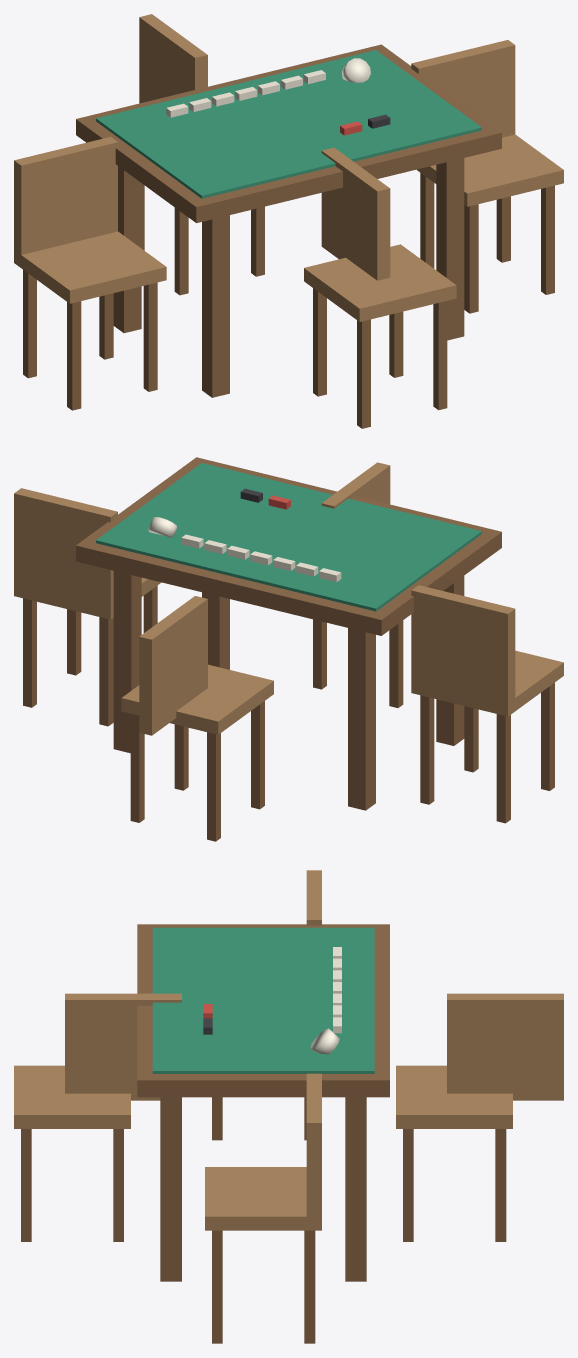
File: okey_masasi.glb
The picture shows the model from 3 angles, top to bottom: view 1: azimuth 30°, elevation 25°; view 2: azimuth 150°, elevation 25°; view 3: azimuth 270°, elevation 25°; orthographic projection. The views are drawn at different scales.
Parts seen in each view (by area): view 1: Felt, Top, Back0, Seat0, Seat2, Back2, Back1, Leg, Seat1, Back3, Leg.002, Leg.001 (+15 smaller); view 2: Felt, Top, Back0, Back1, Back3, Leg.001, Seat3, Leg.003, Seat0, Back2, ChairLeg.001, ChairLeg.006 (+15 smaller); view 3: Felt, Back3, Top, Back2, Seat1, Seat2, Seat3, Leg.002, Leg.003, Back1, ChairLeg.004, ChairLeg.013 (+5 smaller).
Part boxes in pixels (x1,y1,x2,y2): Felt: [96, 50, 481, 198]; Top: [76, 44, 501, 223]; Back0: [14, 136, 117, 260]; Seat0: [14, 231, 166, 303]; Seat2: [304, 244, 456, 321]; Back2: [321, 147, 390, 280]; Back1: [411, 40, 515, 137]; Leg: [202, 215, 229, 397]; Seat1: [417, 134, 563, 206]; Back3: [139, 14, 207, 103]; Leg.002: [436, 158, 464, 340]; Leg.001: [113, 166, 141, 333]; Felt: [96, 463, 481, 611]; Top: [76, 457, 501, 635]; Back0: [411, 585, 515, 707]; Back1: [14, 488, 117, 612]; Back3: [139, 596, 207, 735]; Leg.001: [348, 628, 375, 810]; Seat3: [121, 664, 273, 734]; Leg.003: [113, 571, 141, 753]; Seat0: [411, 650, 563, 716]; Back2: [321, 462, 390, 508]; ChairLeg.001: [496, 714, 510, 823]; ChairLeg.006: [99, 617, 113, 726]; Felt: [152, 927, 374, 1073]; Back3: [447, 993, 563, 1100]; Top: [137, 924, 389, 1097]; Back2: [65, 993, 181, 1100]; Seat1: [205, 1167, 321, 1230]; Seat2: [14, 1065, 130, 1128]; Seat3: [396, 1065, 512, 1128]; Leg.002: [160, 1097, 181, 1281]; Leg.003: [345, 1097, 366, 1281]; Back1: [306, 1073, 321, 1222]; ChairLeg.004: [304, 1230, 315, 1343]; ChairLeg.013: [495, 1129, 506, 1241].
Bounding box in the file's own units: 1.94 × 0.8577 × 1.79.
